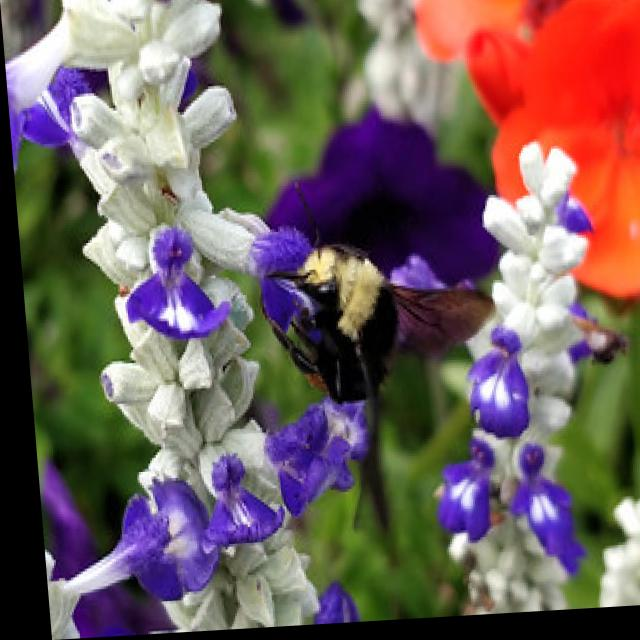Abeille: (257, 217, 423, 428)
